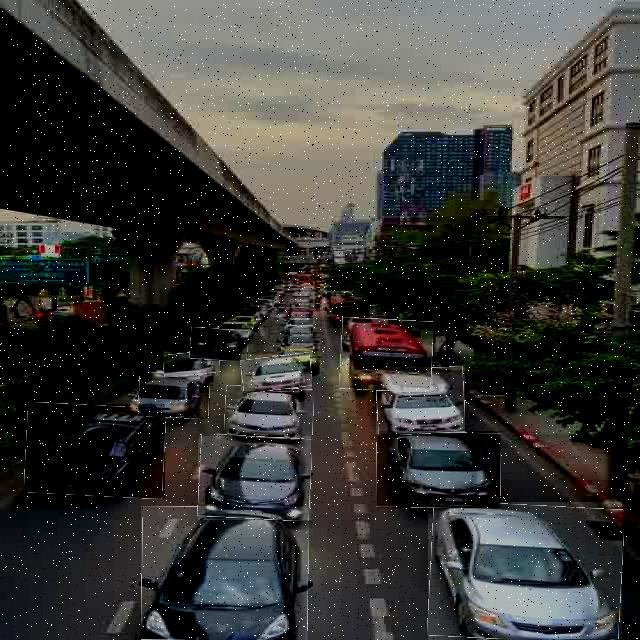Bus: (340, 318, 433, 391)
Car: (428, 502, 622, 640), (141, 506, 308, 640), (25, 404, 165, 498), (377, 431, 501, 508), (198, 436, 311, 520), (376, 367, 465, 434), (225, 386, 314, 443), (138, 373, 210, 419), (241, 354, 312, 391), (189, 328, 248, 361), (164, 352, 220, 376)
